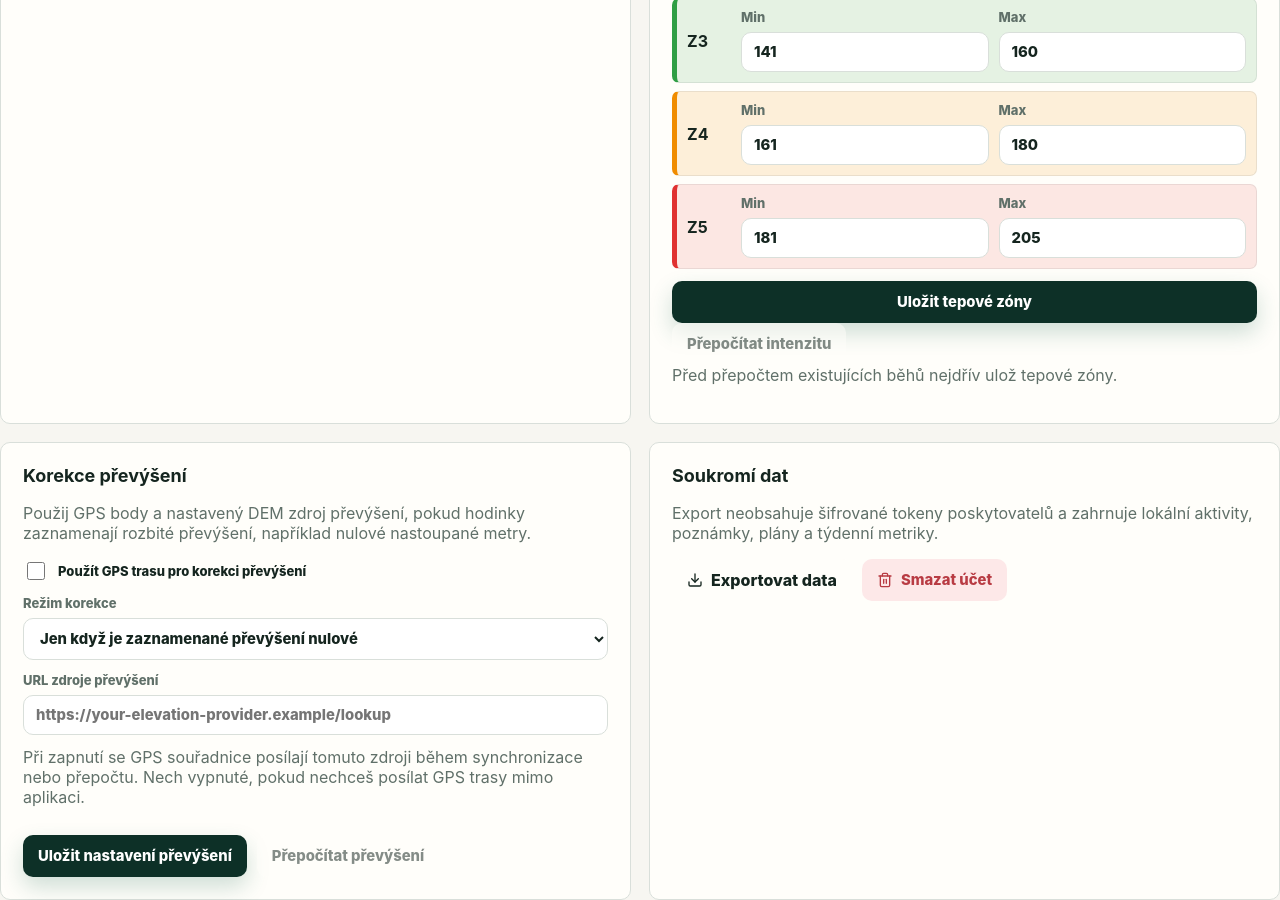
it: SettingsPage › enables GPS elevation correction and starts recompute
The image size is (1280, 900).
(page scrolled)
expect the heading "Korekce převýšení" is shown: met, box [23, 466, 187, 486]
Click the checkbox labelled "Použít GPS trasu pro korekci převýšení" at {"x": 36, "y": 571}, box [27, 562, 45, 580]
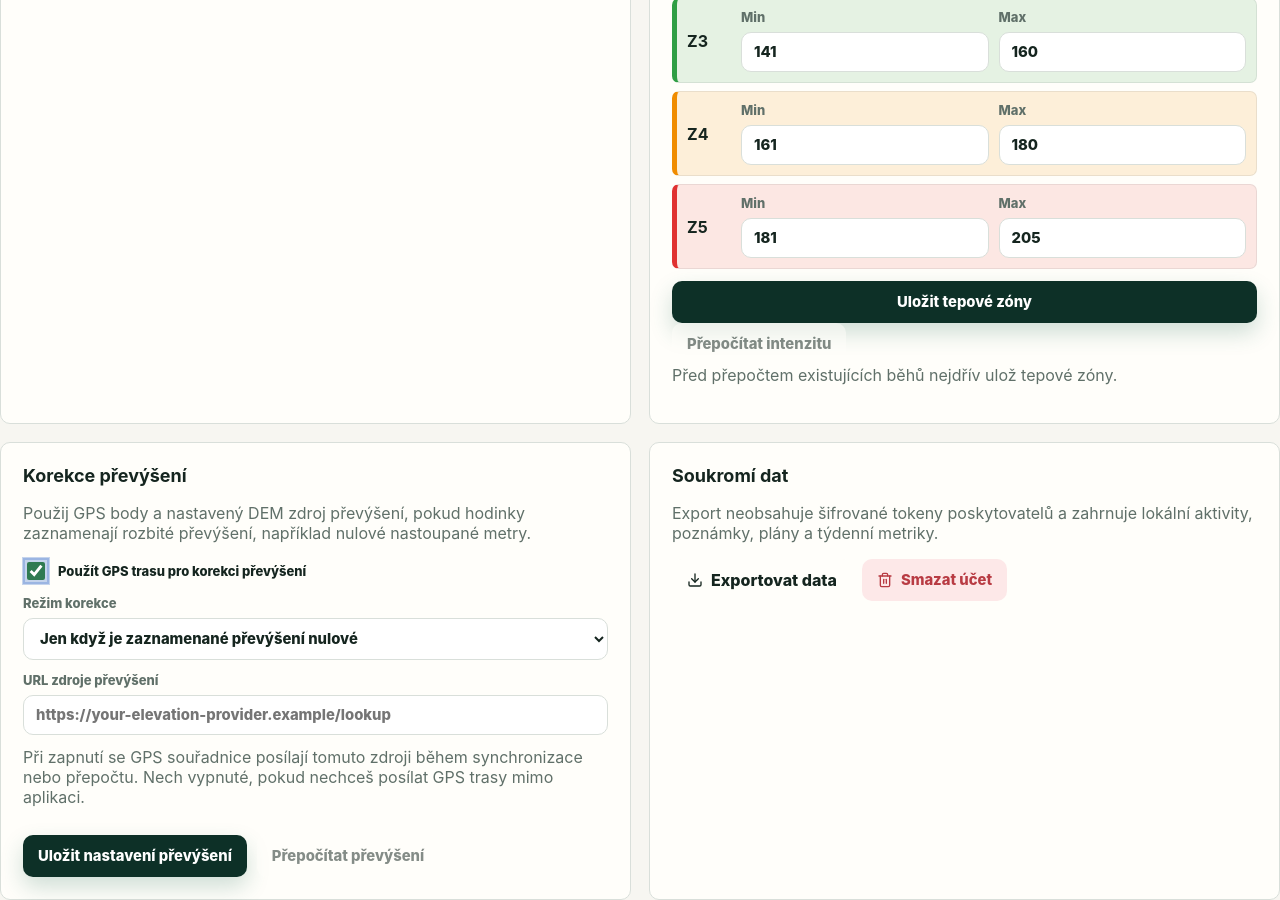
Type "https://elevation.example.test/lookup" into the field labelled "URL zdroje převýšení" at {"x": 316, "y": 715}, box [23, 695, 608, 735]
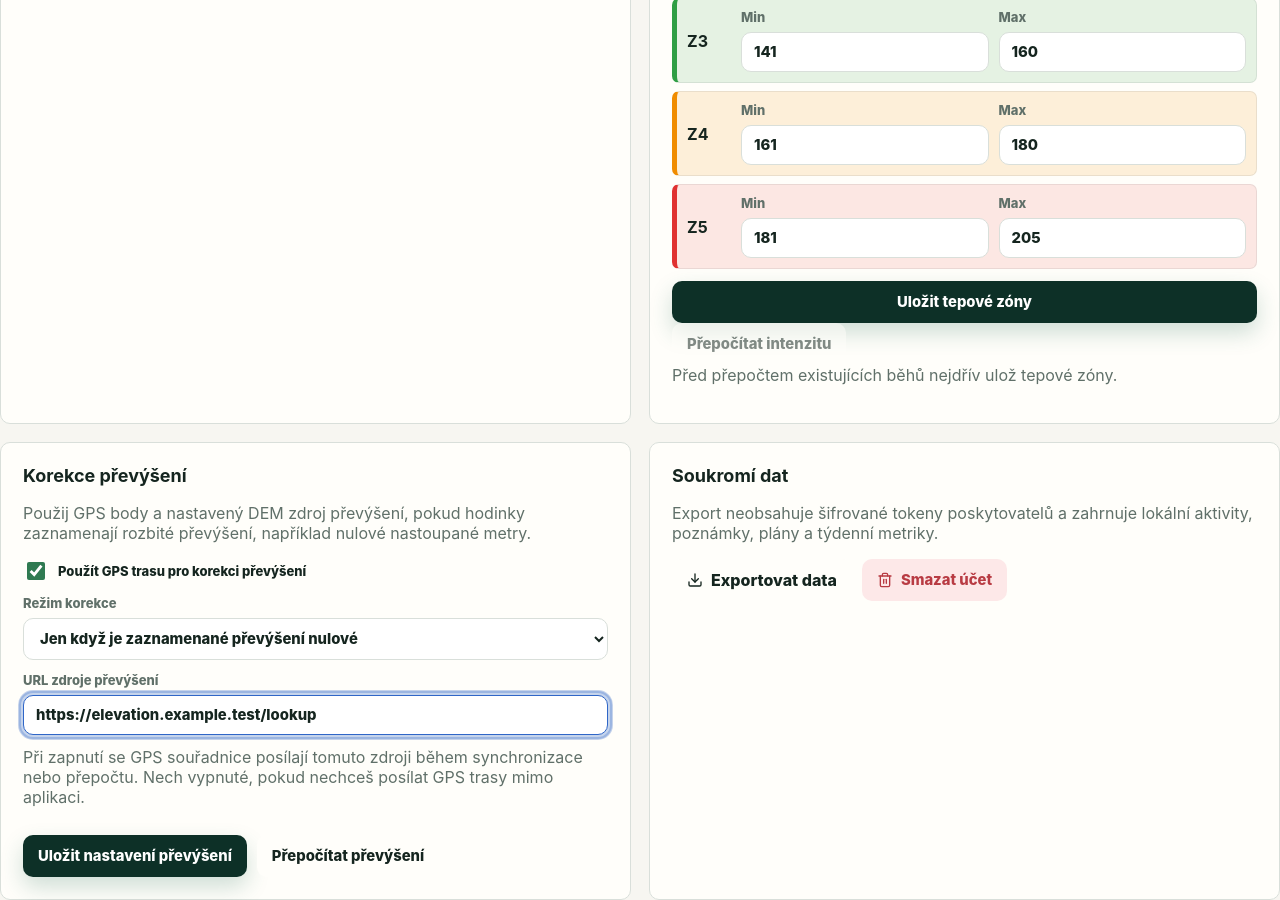
Click the button "Uložit nastavení převýšení" at {"x": 135, "y": 856}, box [23, 835, 247, 877]
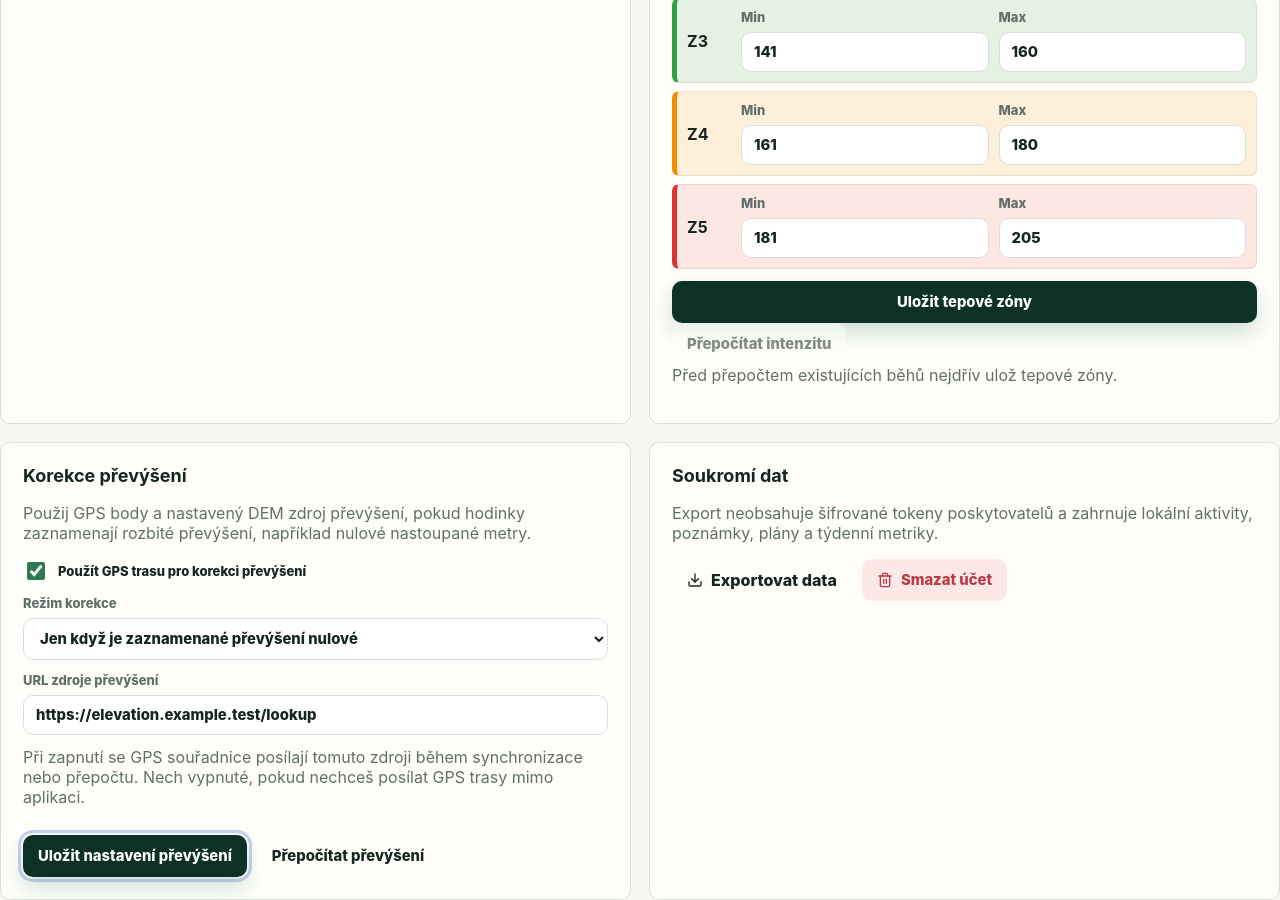
expect the button "Přepočítat převýšení" is enabled: met
Click the button "Přepočítat převýšení" at {"x": 348, "y": 856}, box [257, 835, 439, 877]
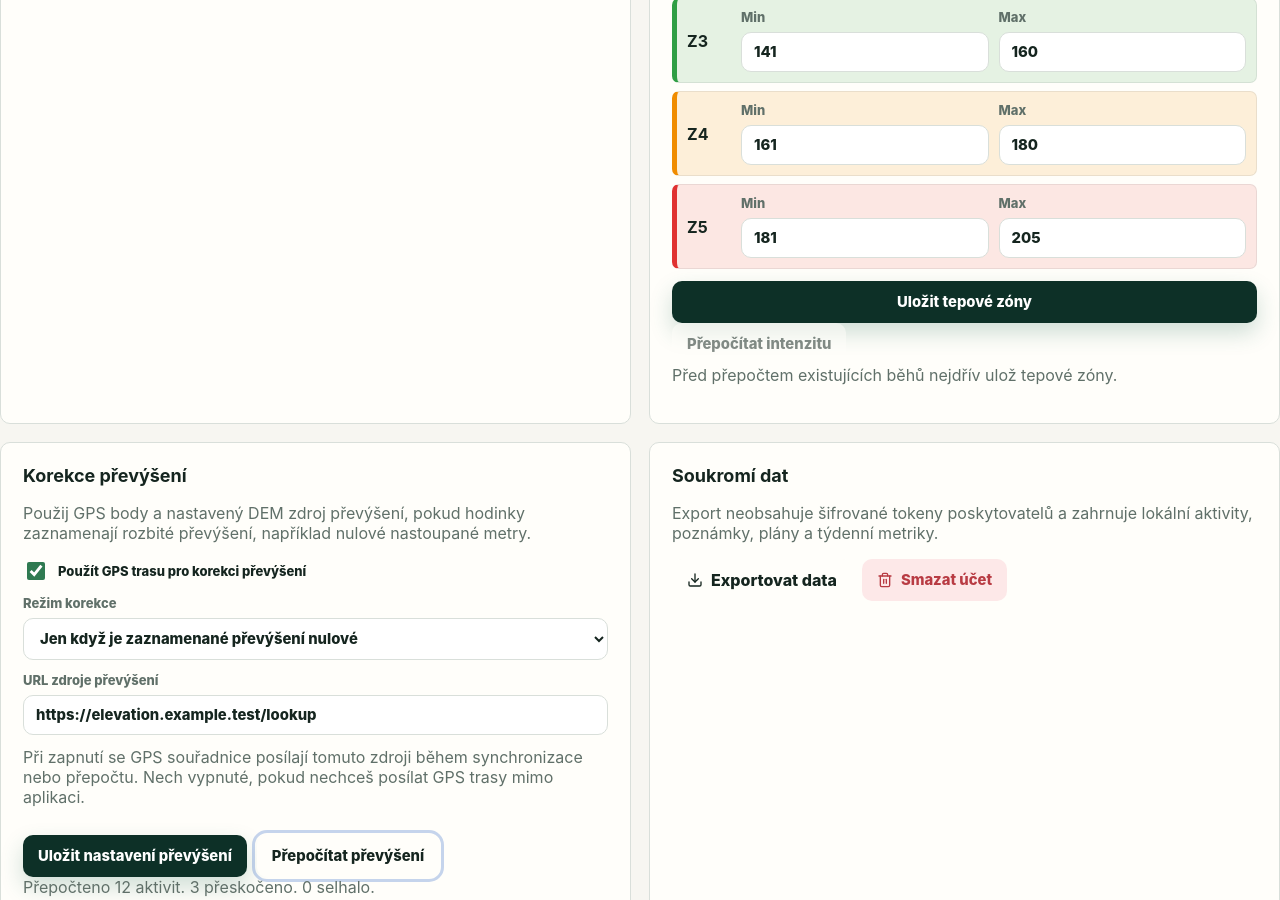
expect the text "Přepočteno 12 aktivit. 3 přeskočeno. 0 selhalo." is shown: met, box [23, 877, 375, 897]
